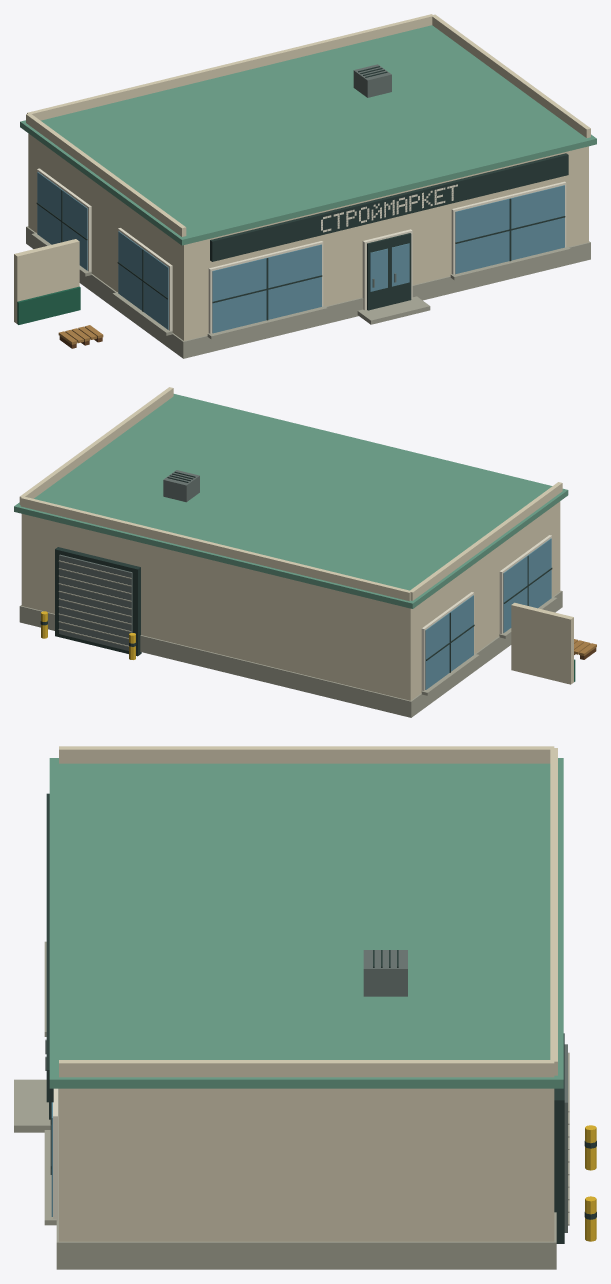
File: ConstructionSupplier.obj
3 renders of one model, top to bottom at view 1: azimuth 30°, elevation 25°; view 2: azimuth 150°, elevation 25°; view 3: azimuth 270°, elevation 25°, orthographic. The views are drawn at different scales.
Visible parts, largest first — view 1: ConstructionSupplier; view 2: ConstructionSupplier; view 3: ConstructionSupplier.
Part boxes in pixels (bbox=[...]): ConstructionSupplier: bbox=[14, 14, 596, 358]; ConstructionSupplier: bbox=[14, 387, 596, 717]; ConstructionSupplier: bbox=[14, 746, 596, 1269].
Bounding box in the file's own units: 18.54 × 5.06 × 11.77.
